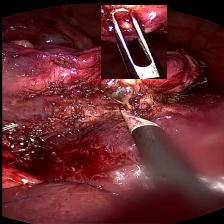Grasper: (100, 6, 166, 79)
Hook: (110, 107, 167, 134)
